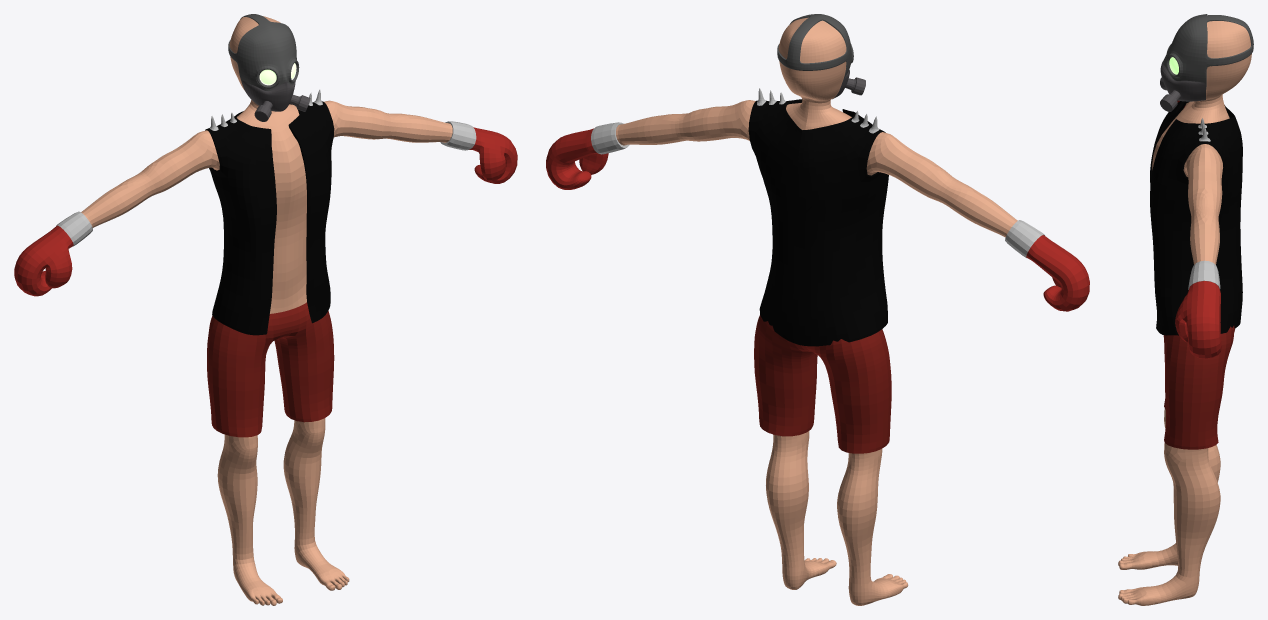
File: Boxxer_withcolor.fbx
3 views of the same model, side by side, from view 1: azimuth 30°, elevation 25°; view 2: azimuth 150°, elevation 25°; view 3: azimuth 270°, elevation 25° (orthographic). The views are drawn at different scales.
Visible parts, largest first — view 1: .body.001, .shirt.001, .pant.001; view 2: .body.001, .shirt.001, .pant.001; view 3: .body.001, .shirt.001, .pant.001.
Part boxes in pixels (x1=…): .body.001: x1=14, y1=14, x2=517, y2=605; .shirt.001: x1=205, y1=89, x2=334, y2=335; .pant.001: x1=207, y1=302, x2=334, y2=437; .body.001: x1=546, y1=14, x2=1089, y2=605; .shirt.001: x1=748, y1=88, x2=888, y2=346; .pant.001: x1=754, y1=315, x2=891, y2=453; .body.001: x1=1118, y1=14, x2=1253, y2=605; .shirt.001: x1=1150, y1=101, x2=1242, y2=335; .pant.001: x1=1163, y1=326, x2=1234, y2=449.
Size of the model in its own units: 1015 by 1062 by 231.
